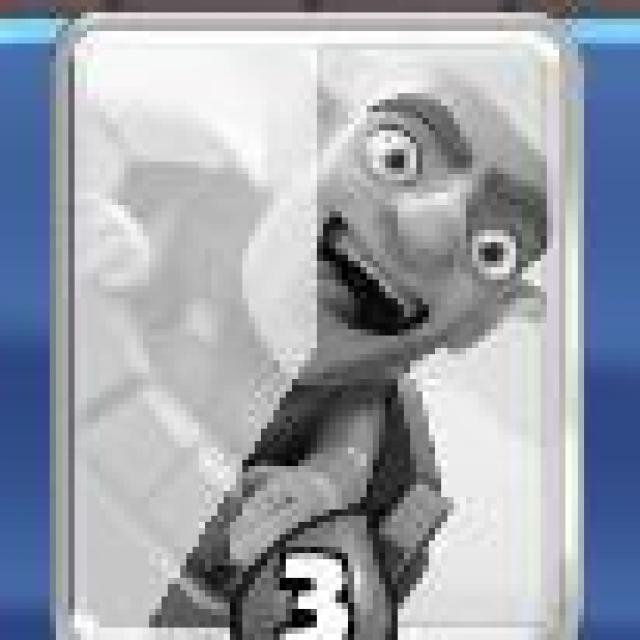Goblin_Barrel: (53, 13, 580, 640)
